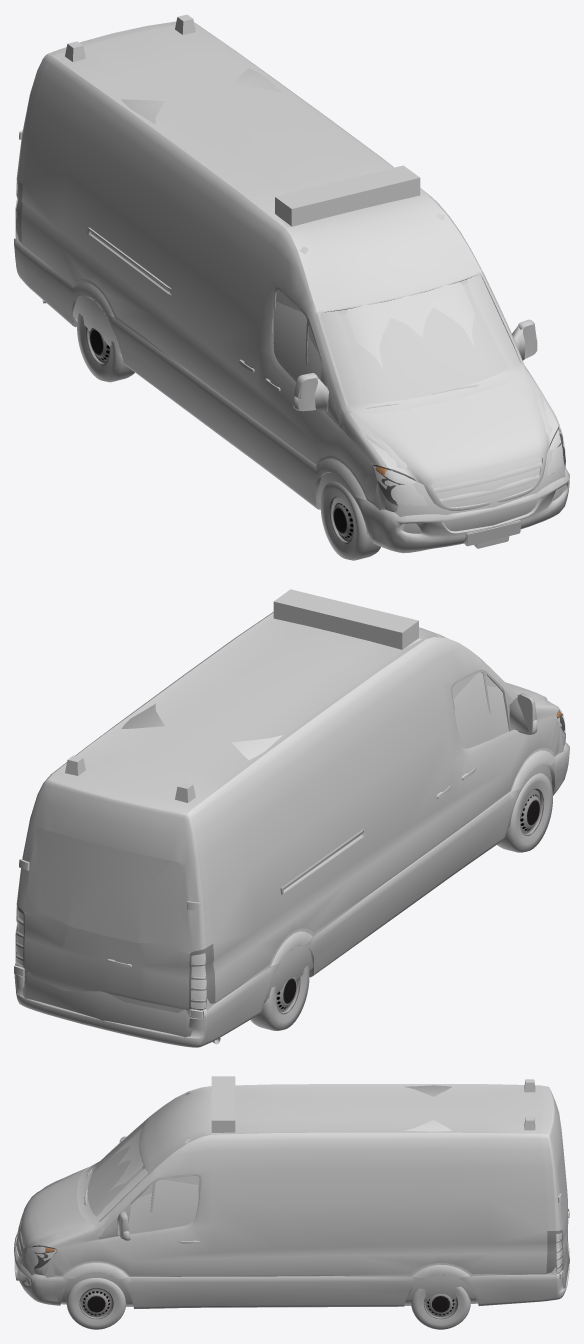
The model's file is Van.FBX.
3 renders of one model, top to bottom at view 1: azimuth 30°, elevation 25°; view 2: azimuth 150°, elevation 25°; view 3: azimuth 270°, elevation 25°, orthographic. The views are drawn at different scales.
Parts seen in each view (by area): view 1: Paint_LOD0, Van_Col, Body_LOD0, Windows_LOD0, WheelFrontRight_LOD0, WheelRearRight_LOD0, LightGlassFront_LOD0, PlateFrontTypeEU_LOD0; view 2: Paint_LOD0, Body_LOD0, Van_Col, WheelFrontRight_LOD0, LightGlassBack_LOD0, WheelRearRight_LOD0; view 3: Paint_LOD0, Body_LOD0, Van_Col, WheelFrontLeft_LOD0, Windows_LOD0, WheelRearLeft_LOD0, LightGlassBack_LOD0, LightGlassFront_LOD0.
Part boxes in pixels (x1=…): Paint_LOD0: x1=14, y1=21, x2=565, y2=511; Van_Col: x1=15, y1=14, x2=566, y2=538; Body_LOD0: x1=14, y1=180, x2=569, y2=553; Windows_LOD0: x1=276, y1=283, x2=507, y2=403; WheelFrontRight_LOD0: x1=320, y1=481, x2=380, y2=560; WheelRearRight_LOD0: x1=77, y1=313, x2=134, y2=382; LightGlassFront_LOD0: x1=373, y1=425, x2=565, y2=505; PlateFrontTypeEU_LOD0: x1=464, y1=520, x2=521, y2=546; Paint_LOD0: x1=14, y1=612, x2=565, y2=1019; Body_LOD0: x1=14, y1=669, x2=569, y2=1047; Van_Col: x1=16, y1=589, x2=563, y2=1037; WheelFrontRight_LOD0: x1=497, y1=773, x2=552, y2=852; LightGlassBack_LOD0: x1=15, y1=904, x2=215, y2=1009; WheelRearRight_LOD0: x1=250, y1=965, x2=309, y2=1030; Paint_LOD0: x1=15, y1=1084, x2=568, y2=1279; Body_LOD0: x1=14, y1=1117, x2=569, y2=1309; Van_Col: x1=15, y1=1076, x2=569, y2=1306; WheelFrontLeft_LOD0: x1=66, y1=1278, x2=126, y2=1329; Windows_LOD0: x1=87, y1=1126, x2=199, y2=1216; WheelRearLeft_LOD0: x1=411, y1=1286, x2=470, y2=1329; LightGlassBack_LOD0: x1=546, y1=1230, x2=563, y2=1273; LightGlassFront_LOD0: x1=25, y1=1245, x2=57, y2=1268.
Size of what is drawn, in the model's own units: 242 by 270 by 681.
